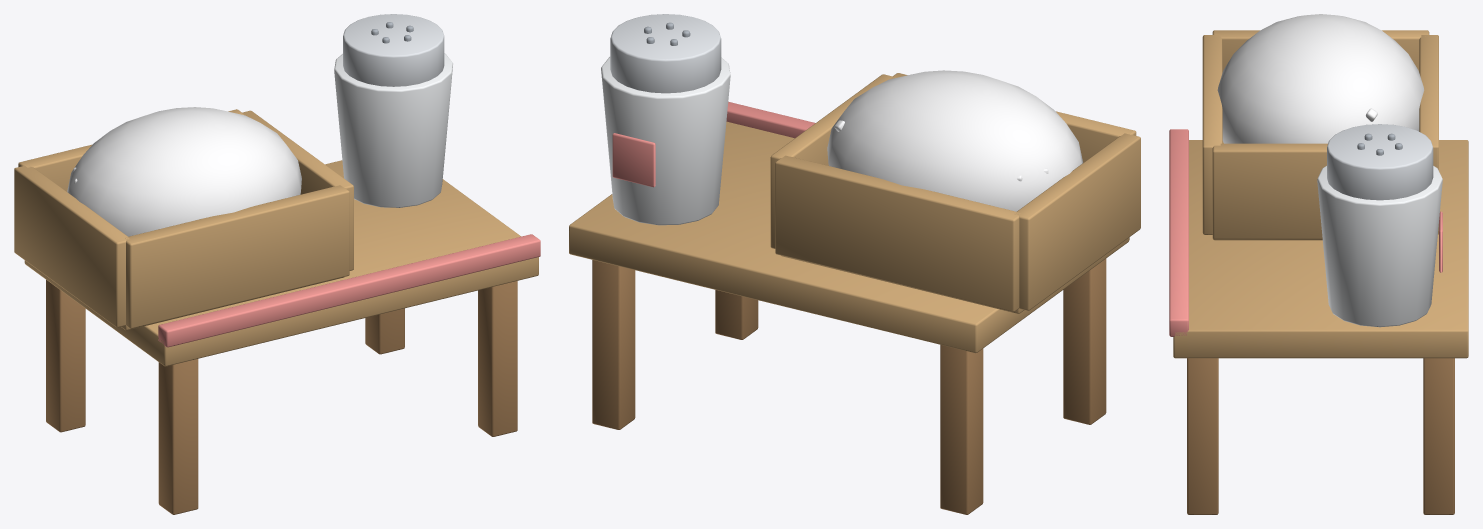
Rendered from SaltTable.glb.
The picture shows the model from 3 angles, left to right: view 1: azimuth 30°, elevation 25°; view 2: azimuth 150°, elevation 25°; view 3: azimuth 270°, elevation 25°; orthographic projection. The views are drawn at different scales.
Visible parts, largest first — view 1: shell; view 2: shell; view 3: shell.
Boxes of the visible parts, box(x1,y1,x2,y2) form: shell: box(14, 14, 540, 514); shell: box(569, 14, 1140, 514); shell: box(1169, 14, 1468, 514).
Bounding box in the file's own units: 2.51 × 2.01 × 1.52.
